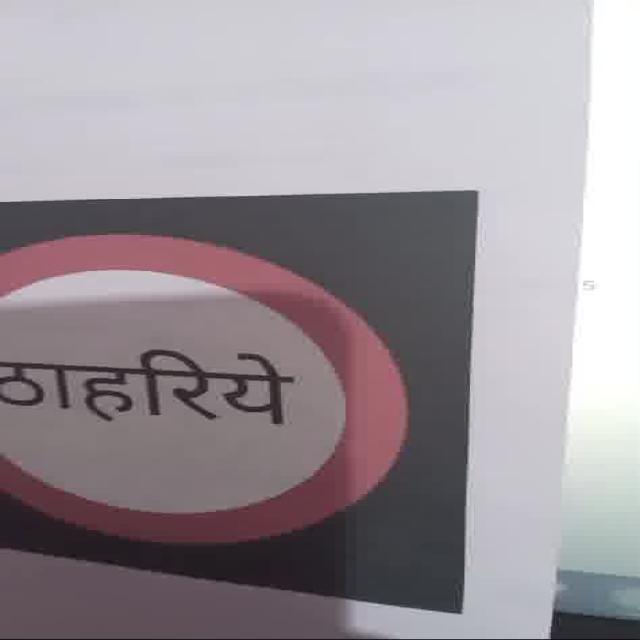hindistop: (0, 189, 478, 612), (1, 347, 297, 426)
